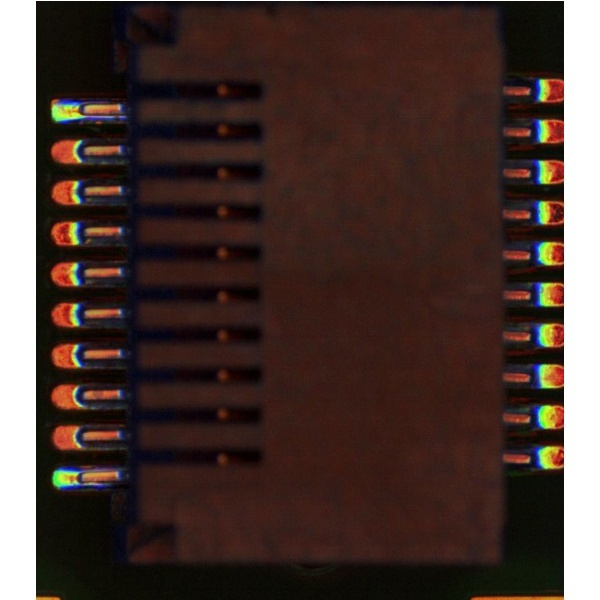Bad_qiaojiao: (86, 113, 127, 121), (81, 481, 118, 486)
